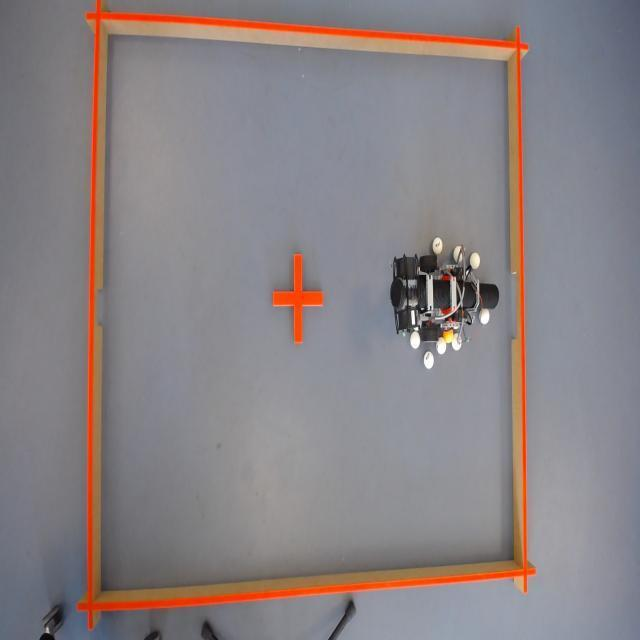white: (420, 351, 432, 371), (408, 330, 419, 350), (432, 236, 444, 254), (469, 252, 481, 268), (437, 338, 448, 355), (481, 310, 491, 325)
